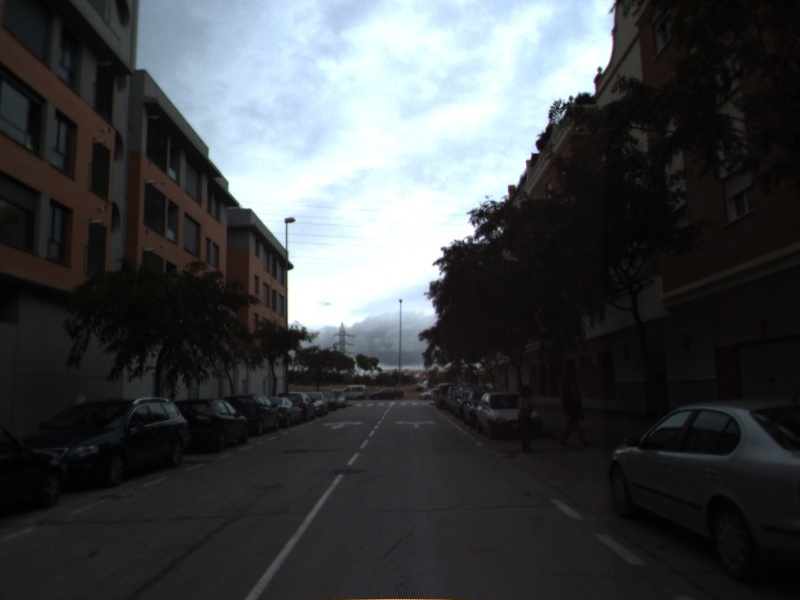LEFT_RIGHT: (393, 418, 438, 430)
